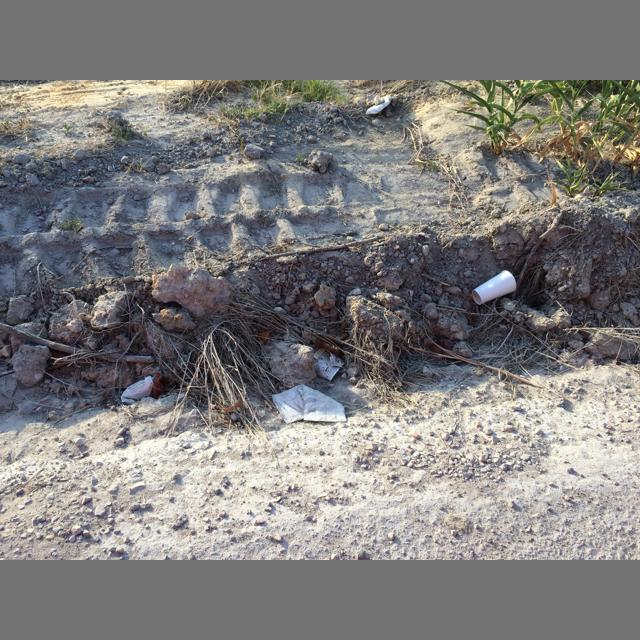litter: (272, 385, 347, 424), (472, 270, 516, 305), (313, 347, 345, 381), (122, 376, 154, 405), (366, 96, 393, 115), (278, 413, 283, 421), (247, 103, 253, 108)
